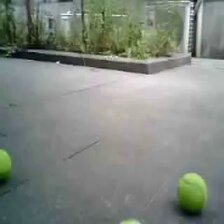tennis: (178, 173, 206, 212)
